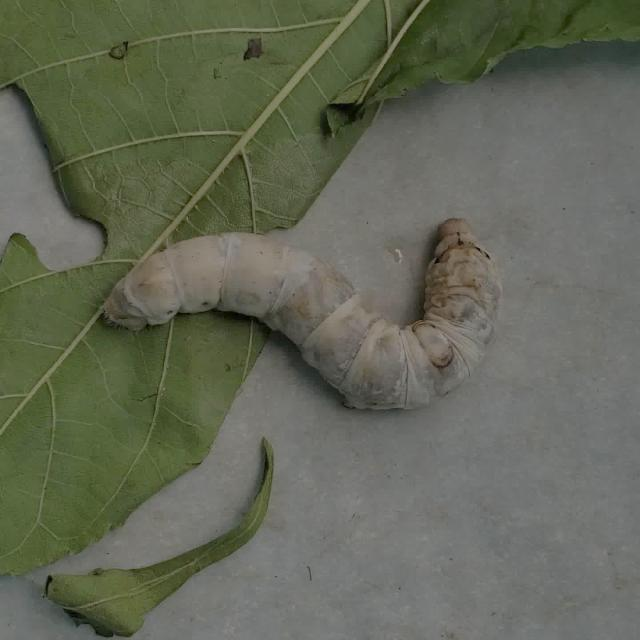Grasserie: (105, 205, 508, 419)
